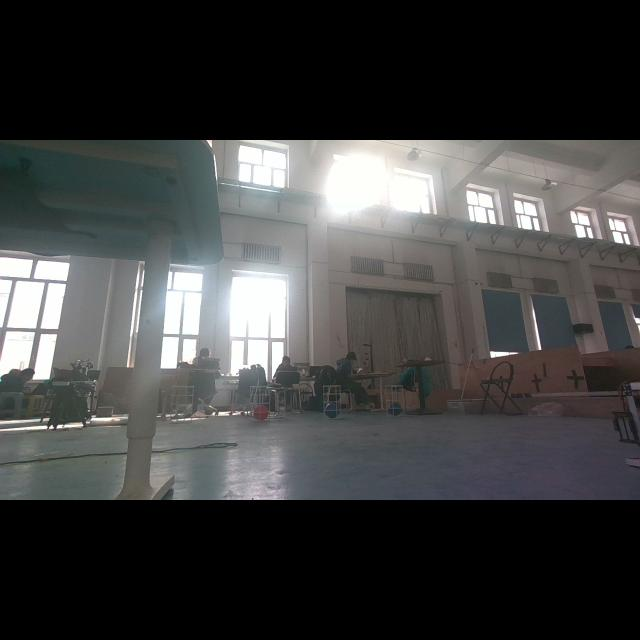B: (322, 403, 342, 417), (388, 402, 404, 416)
R: (253, 406, 269, 420)
S: (168, 384, 196, 424), (381, 384, 411, 420), (246, 384, 272, 424), (321, 384, 345, 422)
